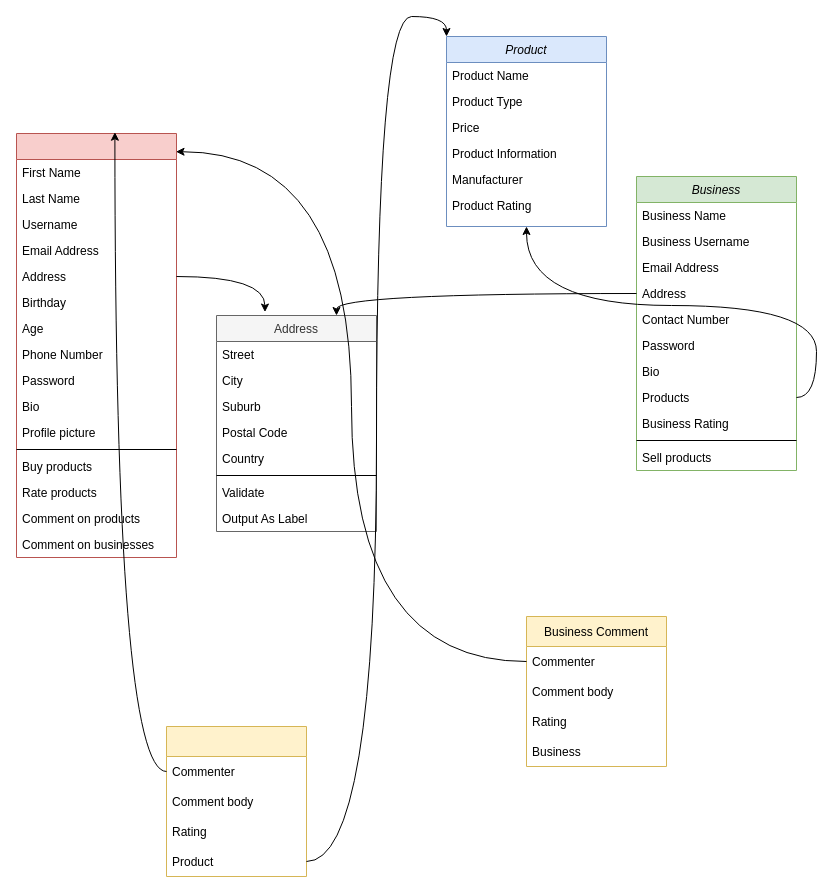
The diagram is 833 pixels wide and 893 high, and some of its shapes have lost their labels. The box of each missing label's shape, as (x1, y1, x2, y2) in pixels:
Customer: (16, 132, 176, 558)
Product Comment: (166, 726, 306, 876)
